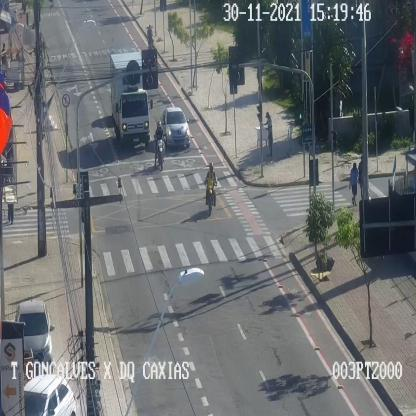bicycle: (146, 24, 154, 51)
car: (15, 301, 52, 372), (23, 374, 76, 415), (160, 107, 190, 146)
motorbike: (205, 162, 217, 215), (154, 121, 166, 170)
person: (263, 111, 272, 157), (349, 162, 358, 205), (358, 155, 363, 203)
truck: (110, 51, 149, 146)
